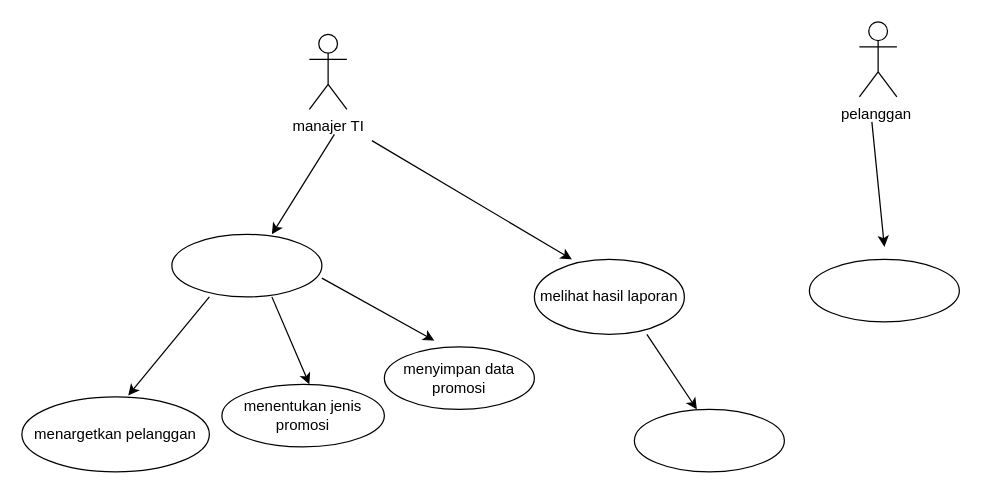
Image size: 981x494. Some labels were removed from this diagram. Each missing label, with the box of its shape:
melihat laporan: (633, 408, 784, 472)
mengelola promosi: (171, 233, 322, 297)
mengikuti promosi: (808, 258, 959, 322)
